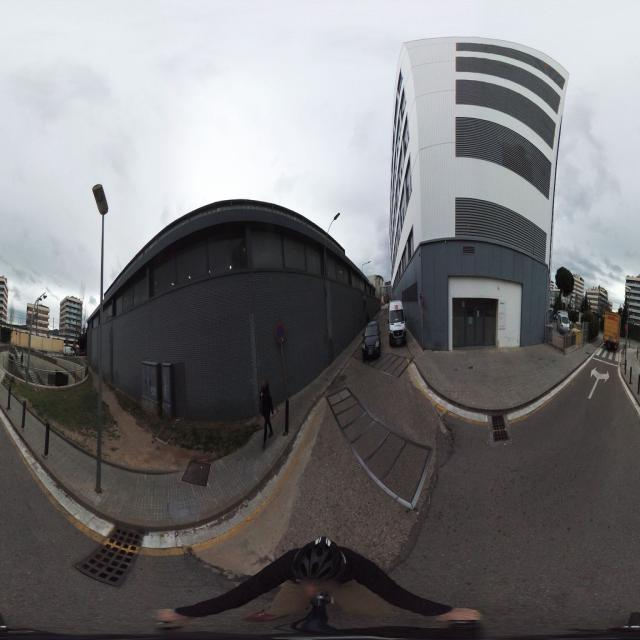forb_stopping: (420, 292, 423, 306)
forb_waiting: (276, 321, 285, 345)
